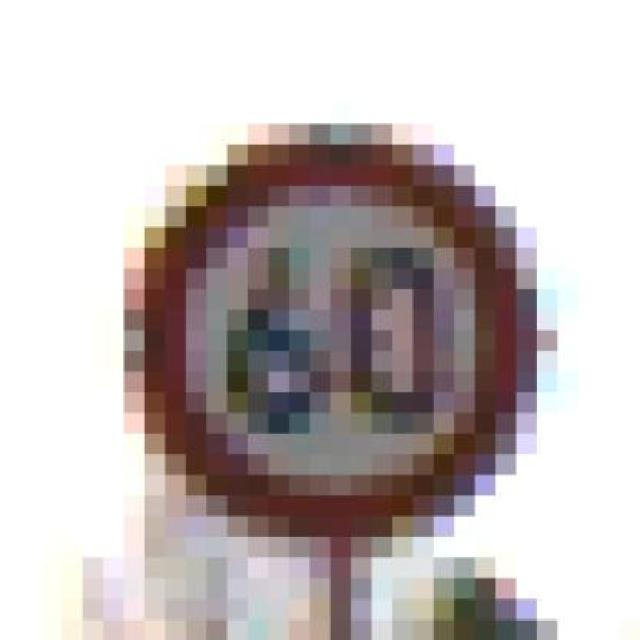forb_speed_over_60: (135, 133, 524, 536)
